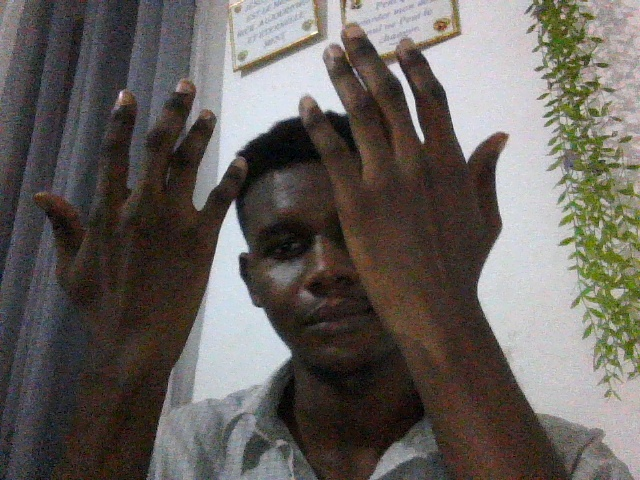hand: (296, 16, 525, 375)
